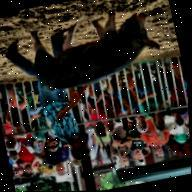boar: (25, 4, 166, 95)
